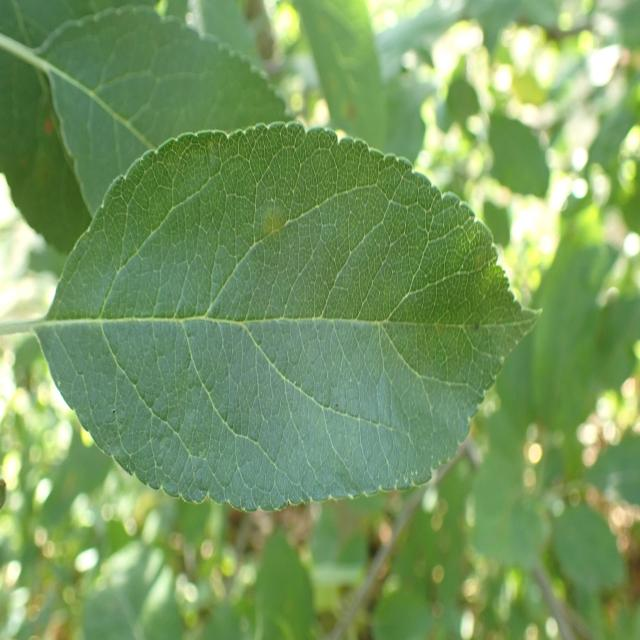scab: (123, 164, 534, 434)
